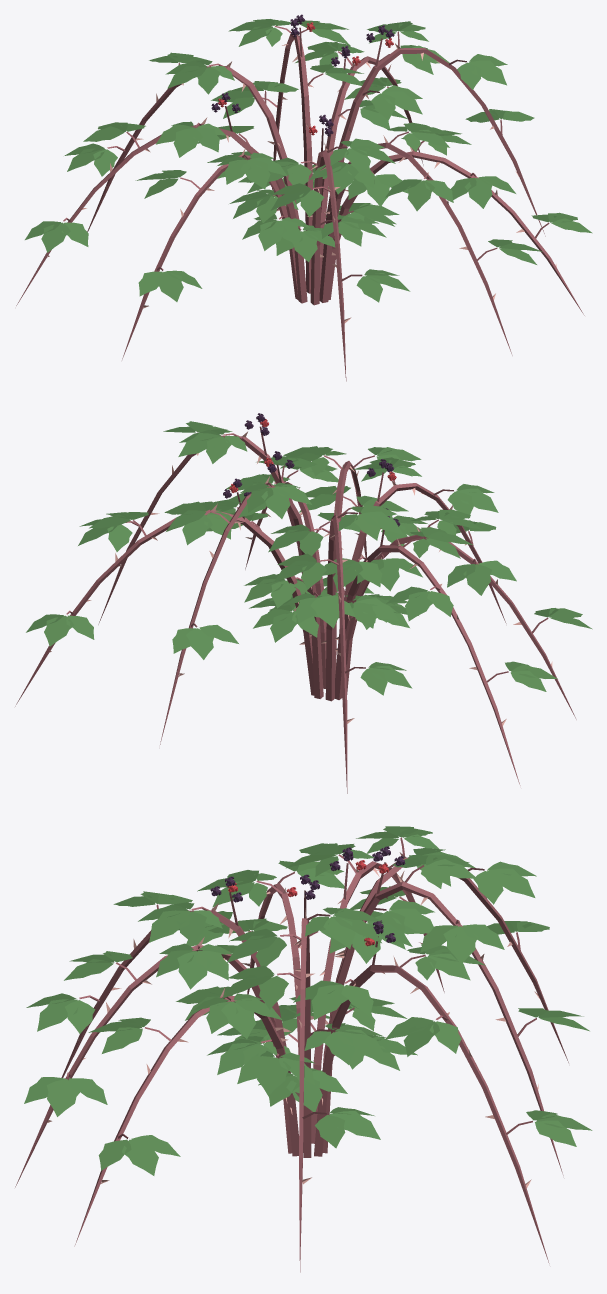
The model's file is blackberry.glb.
3 renders of one model, top to bottom at view 1: azimuth 30°, elevation 25°; view 2: azimuth 150°, elevation 25°; view 3: azimuth 270°, elevation 25°, orthographic. The views are drawn at different scales.
Visible parts, largest first — view 1: blackberry__ripe__leaves_summer, blackberry__ripe__canes, blackberry__ripe__berries_ripe; view 2: blackberry__ripe__leaves_summer, blackberry__ripe__canes, blackberry__ripe__berries_ripe; view 3: blackberry__ripe__leaves_summer, blackberry__ripe__canes, blackberry__ripe__berries_ripe.
Boxes of the visible parts, <box> form: blackberry__ripe__leaves_summer: <box>25,19,592,302</box>; blackberry__ripe__canes: <box>16,27,584,381</box>; blackberry__ripe__berries_ripe: <box>211,14,394,136</box>; blackberry__ripe__leaves_summer: <box>26,421,592,695</box>; blackberry__ripe__canes: <box>15,426,576,793</box>; blackberry__ripe__berries_ripe: <box>223,413,400,529</box>; blackberry__ripe__leaves_summer: <box>24,826,592,1175</box>; blackberry__ripe__canes: <box>15,852,568,1272</box>; blackberry__ripe__berries_ripe: <box>210,846,405,946</box>.
Size of the model in its own units: 1.66 by 0.8421 by 1.4.
